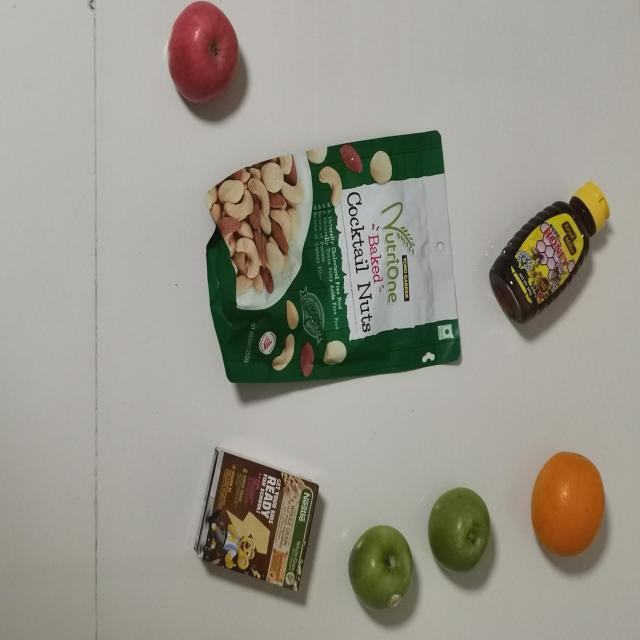Apple: (166, 1, 243, 106), (428, 470, 505, 574), (342, 512, 418, 617)
Cerealbox: (186, 442, 321, 605)
Orange: (528, 450, 606, 555)
